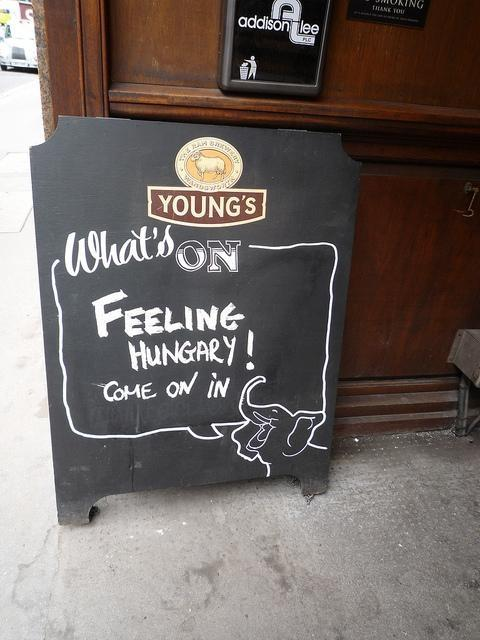car: (1, 20, 38, 70)
